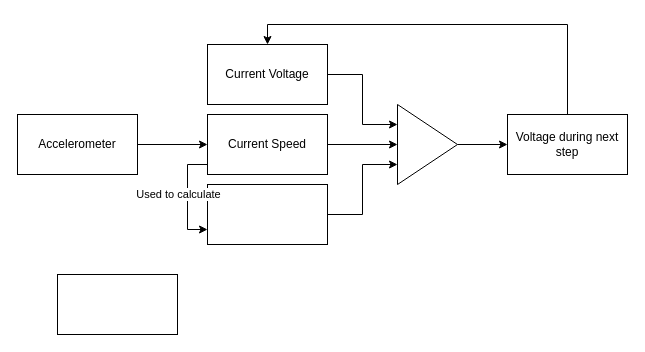
The diagram is 645 pixels wide and 352 high, and some of its shapes have lost their labels. The shapes that lost their labels are listed below. From the top down, each one's centre as x and y in pixels, then its label:
At (427,144): "AI Model".
At (267,214): "Current position on track".
